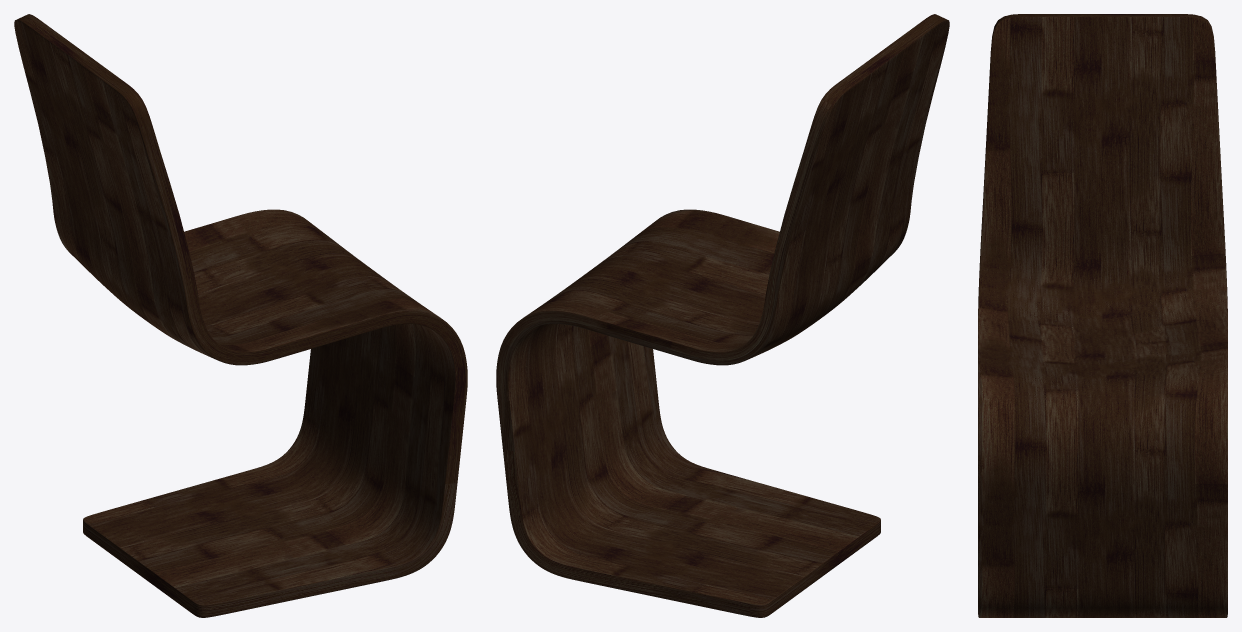
The picture shows the model from 3 angles, left to right: view 1: azimuth 30°, elevation 25°; view 2: azimuth 150°, elevation 25°; view 3: azimuth 270°, elevation 25°; orthographic projection. The views are drawn at different scales.
Parts seen in each view (by area): view 1: AM121_004; view 2: AM121_004; view 3: AM121_004.
Boxes of the visible parts, bbox=[...] form: AM121_004: bbox=[14, 14, 467, 617]; AM121_004: bbox=[496, 14, 949, 617]; AM121_004: bbox=[978, 14, 1227, 617].
Bounding box in the file's own units: 42.48 × 66.58 × 31.01.
1 material, 1 textured.
